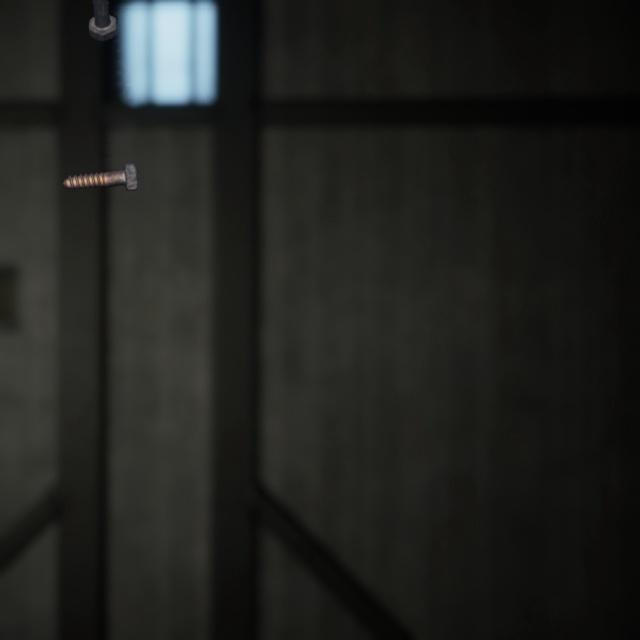bolt: (58, 145, 142, 181), (84, 0, 121, 39)
